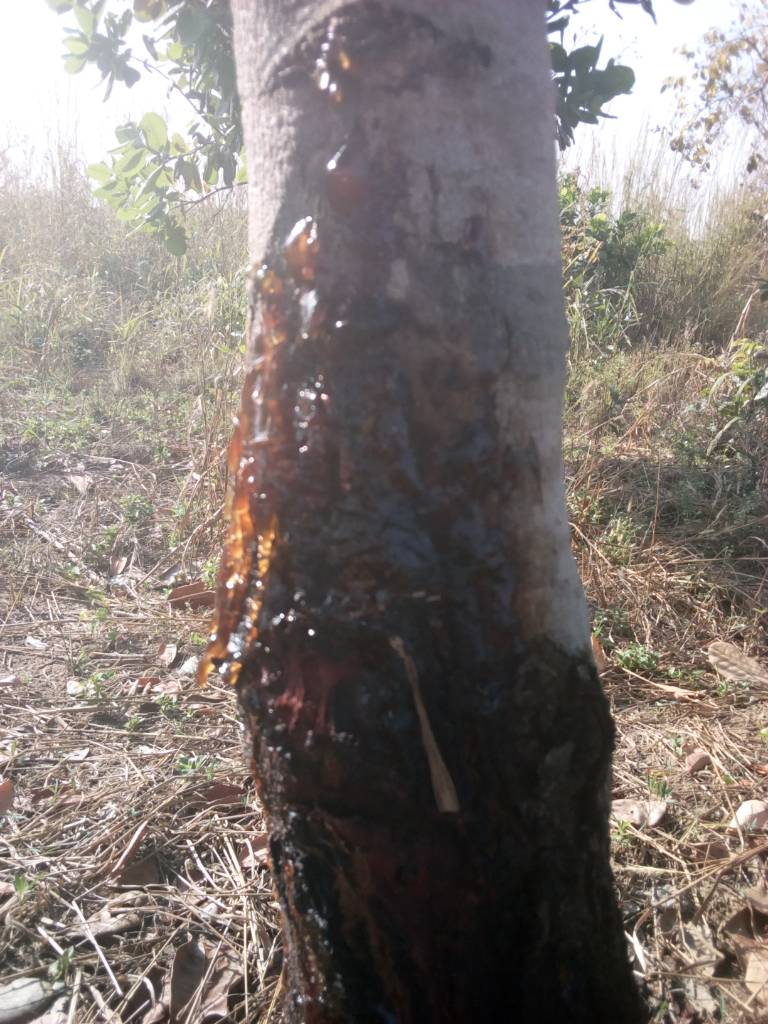Gommose: (232, 119, 582, 1024)
